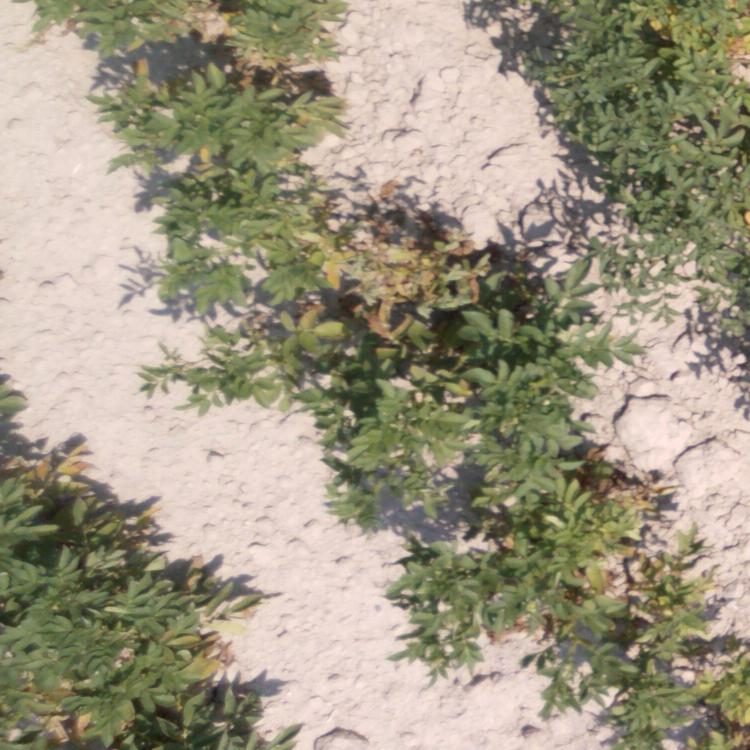healthy: (581, 113, 740, 281)
stressed: (138, 206, 577, 386), (411, 522, 677, 742), (1, 586, 281, 750), (313, 395, 624, 525), (93, 64, 323, 195), (481, 1, 741, 107), (1, 413, 162, 580), (45, 1, 346, 71), (678, 594, 750, 739)
